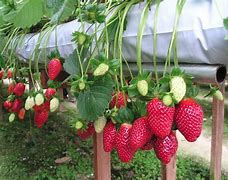Fresa: (175, 95, 205, 144), (146, 92, 175, 141), (116, 121, 138, 163), (130, 112, 154, 150), (155, 129, 179, 164), (102, 119, 119, 153), (46, 55, 64, 82), (33, 109, 50, 129), (12, 81, 28, 98)
